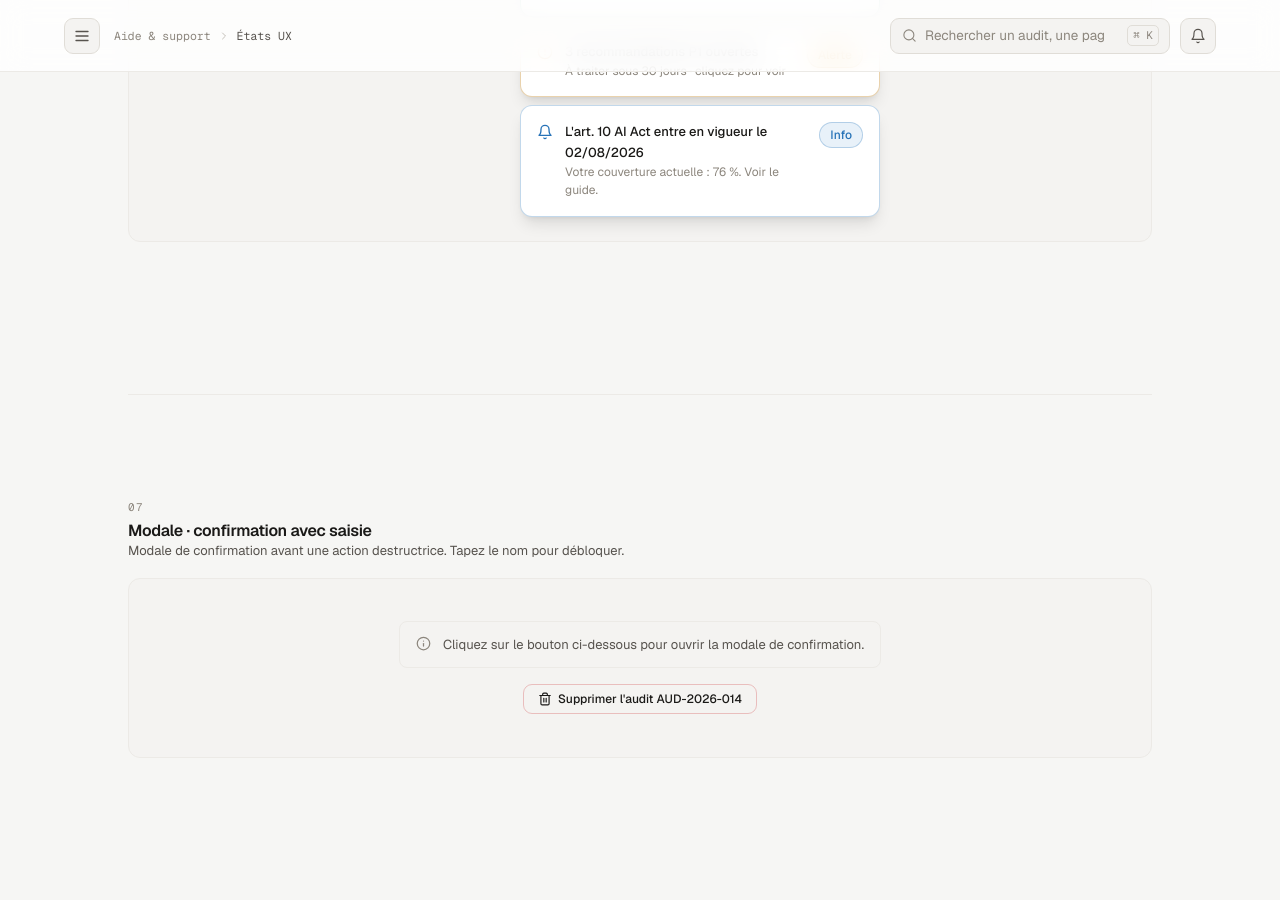
Test case: etats template gallery — R5 › closes modal when Annuler is clicked
(page scrolled)
Click the button "Supprimer l'audit AUD-2026-014" at (640,699), box x1=523 y1=684 x2=757 y2=714
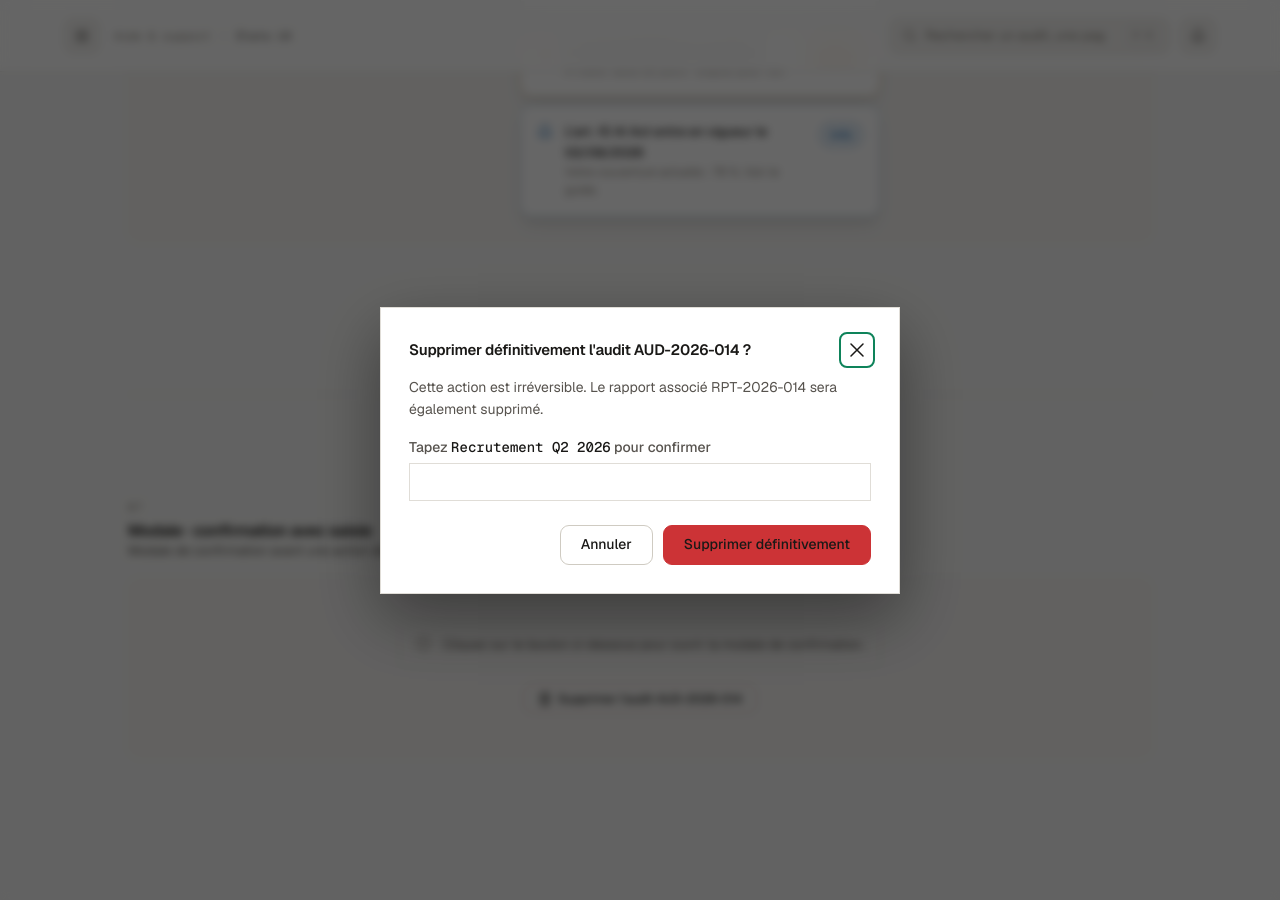
Expected: the dialog is shown, x1=380 y1=306 x2=900 y2=594
Click the button "Annuler" at (606,545), box x1=560 y1=525 x2=653 y2=564
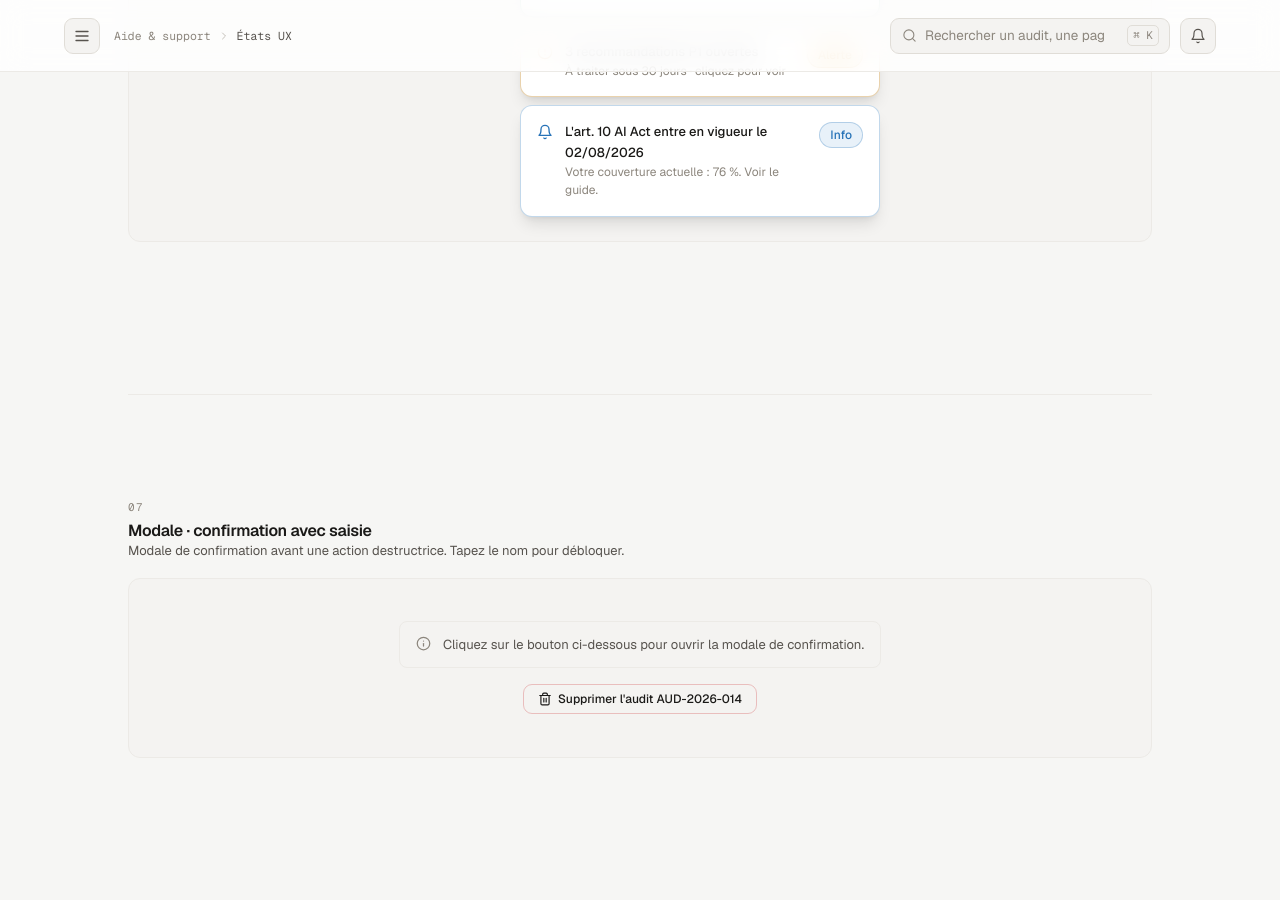
Expected: the dialog is gone
